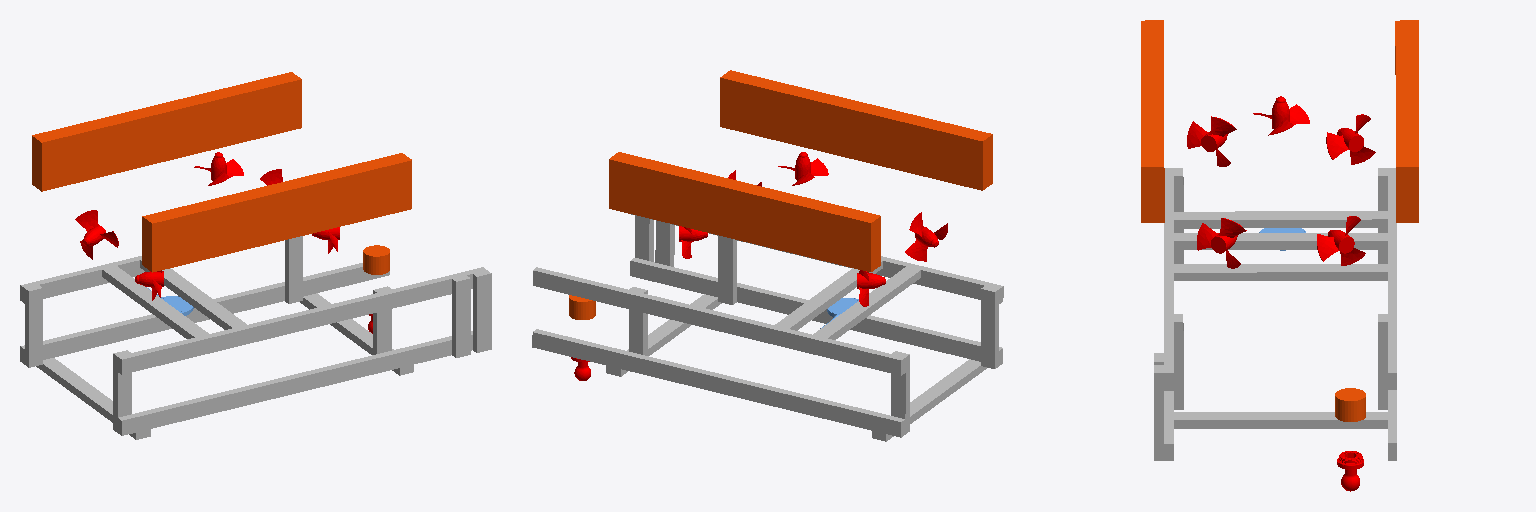
URDF robot description (falcon_bravo7):
<?xml version="1.0" encoding="utf-8"?>
<robot name="falcon_bravo7">

                                <material name="green2">
                                        <color rgba="0.235 0.702 0.443 1"/>
                                </material>

                                <material name="blue">
                                        <color rgba="0.263 0.733 0.984 1"/>
                                </material>

                                <material name="lavender">
                                        <color rgba="0.5 0.733 0.984 1"/>
                                </material>

                                <material name="red">
                                        <color rgba="1 0 0 1"/>
                                </material>

                                <material name="trans_black">
                                        <color rgba="0.8 0.8 0.8 1"/>
                                </material>

                                <material name="orange">
                                        <color rgba="1 0.369 0.047 1"/>
                                </material>

                                <material name="bravo_black">
                                        <color rgba="0.3 0.3 0.3 0.7"/>
                                </material>

                                <material name="bravo_jaws_black">
                                        <color rgba="0.3 0.3 0.3 1"/>
                                </material>   
            <!--ROV-->
<link name="world"/>     

            <link name="mobile_base">
                    <visual>
                            <geometry>
                                <mesh filename="package://uvm_description/meshes/falcon_frame.obj" scale="0.333 0.333 0.333"/>
                            </geometry>
                    </visual>
            </link>

            <link name="chassis">
                    <visual>
                            <geometry>
                                <mesh filename="package://uvm_description/meshes/chassis.STL" scale="0.001 0.001 0.001"/>
                            </geometry>
                            <material name="trans_black"/>
                    </visual>
            </link>
                    
                    <joint name="falcon2chassis" type="fixed">
                        <parent link="mobile_base"/>
                        <child link="chassis"/>
                        <origin rpy="-1.57 3.14  0" xyz="0.295 -0.73 -0.275"/>
                    </joint>
            
            <link name="floaterR">
                    <visual>
                            <geometry>
                                <mesh filename="package://uvm_description/meshes/floater.STL" scale="0.001 0.001 0.001"/>
                            </geometry>
                            <material name="orange"/>
                    </visual>
            </link>
                    <joint name="falcon2floaterR" type="fixed">
                        <parent link="mobile_base"/>
                        <child link="floaterR"/>
                        <origin rpy="-1.57 0 -1.57" xyz="0.29 0.45 0.45"/>
                    </joint>

            <link name="floaterL">
                    <visual>
                            <geometry>
                                <mesh filename="package://uvm_description/meshes/floater.STL" scale="0.001 0.001 0.001"/>
                            </geometry>
                            <material name="orange"/>
                    </visual>
            </link>
                    <joint name="falcon2floaterL" type="fixed">
                        <parent link="mobile_base"/>
                        <child link="floaterL"/>
                        <origin rpy="-1.57 0 -1.57" xyz="-0.365 0.45 0.45"/>
                    </joint>
            
            <link name="DVL">
                <visual>
                        <geometry>
                            <mesh filename="package://uvm_description/meshes/dvl_a125.stl" scale="0.001 0.001 0.001"/>
                        </geometry>
                        <material name="lavender"/>
                </visual>
            </link>
                    <joint name="falcon2dvl" type="fixed">
                        <parent link="mobile_base"/>
                        <child link="DVL"/>
                        <origin rpy="1.57 0 -1.570" xyz="0 0.17 -0.07"/>
                    </joint>
            
            <!--PROPELLERS-->
            <link name="Z_propeller">
                    <visual>
                            <geometry>
                                <mesh filename="package://uvm_description/meshes/propeller.stl" scale="0.85 0.85 0.85"/>
                            </geometry>
                            <material name="red"/>
                    </visual>
            </link>
            
            <link name="1_propeller">
                    <visual>
                            <geometry>
                                <mesh filename="package://uvm_description/meshes/propeller.stl" scale="0.85 0.85 0.85"/>
                            </geometry>
                            <material name="red"/>
                    </visual>
            </link>
            
            <link name="2_propeller">
                    <visual>
                            <geometry>
                                <mesh filename="package://uvm_description/meshes/propeller.stl" scale="0.85 0.85 0.85"/>
                            </geometry>
                            <material name="red"/>
                    </visual>
            </link>
            
            <link name="3_propeller">
                    <visual>
                            <geometry>
                                <mesh filename="package://uvm_description/meshes/propeller.stl" scale="0.85 0.85 0.85"/>
                            </geometry>
                            <material name="red"/>
                    </visual>
            </link>
            
            <link name="4_propeller">
                    <visual>
                            <geometry>
                                <mesh filename="package://uvm_description/meshes/propeller.stl" scale="0.85 0.85 0.85"/>
                            </geometry>
                            <material name="red"/>
                    </visual>
            </link>
                    
                    <joint name="z_propeller_joint" type="fixed">
                        <parent link="mobile_base"/>
                        <child link="Z_propeller"/>
                        <axis xyz="1 0 0"/>
                        <origin rpy="0.0 1.57 0" xyz="-0.005 0.015 0.35"/>
                    </joint>
                    
                    <joint name="4_propeller_joint" type="fixed">
                        <parent link="mobile_base"/>
                        <child link="4_propeller"/>
                        <axis xyz="1 0 0"/>
                        <origin rpy="0.0 0.0 -2.0944" xyz="-0.19 0.31 0.165"/>
                    </joint>
                    
                    <joint name="3_propeller_joint" type="fixed">
                        <parent link="mobile_base"/>
                        <child link="3_propeller"/>
                        <axis xyz="1 0 0"/>
                        <origin rpy="0.0 0.0 -1.0472" xyz="0.19 0.31 0.165"/>
                    </joint>
                    
                    <joint name="2_propeller_joint" type="fixed">
                        <parent link="mobile_base"/>
                        <child link="2_propeller"/>
                        <axis xyz="1 0 0"/>
                        <origin rpy="0.0 0.0 -1.0472" xyz="0.165 -0.307 0.165"/>
                    </joint>
                                        
                    <joint name="1_propeller_joint" type="fixed">
                        <parent link="mobile_base"/>
                        <child link="1_propeller"/>
                        <axis xyz="1 0 0"/>
                        <origin rpy="0.0 0.0 -2.094395327" xyz="-0.165 -0.307 0.165"/>
                    </joint>


            <link name="x_link"/>
            <link name="y_link"/>
            <link name="z_link"/>

                    <joint name="X" type="prismatic">
                        <parent link="world"/>
                        <child link="x_link"/>
                        <limit effort="1000.0" lower="-40.0" upper="40.0" velocity="10"/>
                        <origin rpy="0 0 0" xyz="0 0 0"/>
                        <axis xyz="1 0 0"/>
                    </joint>

                    <joint name="Y" type="prismatic">
                        <parent link="x_link"/>
                        <child link="y_link"/>
                        <limit effort="1000.0" lower="-40.0" upper="40.0" velocity="10"/>
                        <origin rpy="0 0 0" xyz="0 0 0"/>
                        <axis xyz="0 1 0"/>
                    </joint>

                    <joint name="Z" type="prismatic">
                        <parent link="y_link"/>
                        <child link="z_link"/>
                        <limit effort="1000.0" lower="-40.0" upper="40.0" velocity="10"/>
                        <origin rpy="0 0 0" xyz="0 0 0"/>
                        <axis xyz="0 0 1"/>
                    </joint>
                    
                    <joint name="Yaw" type="revolute">
                        <parent link="z_link"/>
                        <child link="mobile_base"/>
                        <origin rpy="0 0.0 1.570796326" xyz="0 0 0"/>
                        <axis xyz="0 0 1"/>
                        <limit effort="10.0" lower="-8.0" upper="8.0" velocity="5"/>
                    </joint>

            <!--BRAVO ARM-->                    

            <link name="link1">
                <visual>
                    <geometry>
                        <mesh filename="package://uvm_description/meshes/RS2-266.stl"/>
                    </geometry>
                    <material name="blue"/>
                </visual>
            </link>

                    <joint name="base_fixed" type="fixed">
                        <parent link="mobile_base"/>
                        <child link="link1"/>
                        <origin rpy="0 0 4.712" xyz="0.175 -0.655 -0.035"/>
                    </joint>

            <link name="link2">
                <visual>
                    <geometry>
                        <mesh filename="package://uvm_description/meshes/RS2-217.stl"/>
                    </geometry>
                    <material name="green2"/>
                    </visual>
            </link>

                    <joint name="joint1" type="revolute">
                        <parent link="link1"/>
                        <child link="link2"/>
                        <origin rpy="0 0 0" xyz="0.0665 0 0.078"/>
                        <axis xyz="0 0 -1"/>
                        <limit effort="9.0" lower="0.0" upper="6.3" velocity="0.5"/>
                    </joint>

            <link name="link3">
                <visual>
                    <geometry>
                        <mesh filename="package://uvm_description/meshes/RS2-250-212-214.stl"/>
                    </geometry>
                    <material name="blue"/>
                </visual>
            </link>

                    <joint name="joint2" type="revolute">
                        <parent link="link2"/>
                        <child link="link3"/>
                        <origin rpy="0 0 0" xyz="-0.046 0 0.0674"/>
                        <axis xyz="0 1 0"/>
                        <limit effort="9.0" lower="0.0" upper="3.5" velocity="0.5"/>
                    </joint>

            <link name="link4">
                <visual>
                    <geometry>
                        <mesh filename="package://uvm_description/meshes/RS2-268.stl"/>
                    </geometry>
                    <material name="green2"/>
                </visual>
            </link>

                    <joint name="joint3" type="revolute">
                        <parent link="link3"/>
                        <child link="link4"/>
                        <origin rpy="0 0 0" xyz="-0.0052 0 -0.29055"/>
                        <axis xyz="0 1 0"/>
                        <limit effort="9.0" lower="0.0" upper="3.5" velocity="0.5"/>
                    </joint>

            <link name="link5">
                <visual>
                    <geometry>
                        <mesh filename="package://uvm_description/meshes/RS2-214.stl"/>
                    </geometry>
                    <material name="blue"/>
                </visual>
            </link>

                    <joint name="joint4" type="revolute">
                        <parent link="link4"/>
                        <child link="link5"/>
                        <origin rpy="0 0 0" xyz="0.0408 0 0.09695"/>
                        <axis xyz="0 0 -1"/>
                        <limit effort="9.0" lower="0.0" upper="6.3" velocity="0.5"/>
                    </joint>

            <link name="link6">
                <visual>
                    <geometry>
                        <mesh filename="package://uvm_description/meshes/RS2-161.stl"/>
                    </geometry>
                    <material name="green2"/>
                </visual>
            </link>

                    <joint name="joint5" type="revolute">
                        <parent link="link5"/>
                        <child link="link6"/>
                        <origin rpy="0 0 0" xyz="-0.0408 0 0.063"/>
                        <axis xyz="0 1 0"/>
                        <limit effort="9.0" lower="0.0" upper="3.5" velocity="0.5"/>
                    </joint>

            <link name="link7">
                <visual>
                    <geometry>
                        <mesh filename="package://uvm_description/meshes/RS2-180.stl"/>
                    </geometry>
                    <material name="blue"/>
                </visual>
            </link>

            <link name="force_torque_sensor">
                <visual>
                    <geometry>
                        <cylinder length="0.06" radius="0.04"/>
                    </geometry>
                    <material name="orange"/>
                </visual>
            </link>

            <link name="end_effector_ball">
                <visual>
                    <geometry>
                        <mesh filename="package://uvm_description/meshes/EndEffector_85mm.STL" scale="0.001 0.001 0.001"/>
                    </geometry>
                    <material name="red"/>
                </visual>
            </link>
                    <joint name="FT_fixed_1" type="fixed">
                        <origin rpy="0 0 1.57" xyz=" 0 0 -0.03"/>
                        <parent link="link7"/>
                        <child link="force_torque_sensor"/>
                    </joint>

                    <joint name="joint6" type="revolute">
                        <parent link="link6"/>
                        <child link="link7"/>
                        <origin rpy="0 3.14159 0" xyz="-0.0408 0 -0.14863"/>
                        <axis xyz="0 0 -1"/>
                        <limit effort="9.0" lower="0.0" upper="6.3" velocity="0.5"/>
                    </joint>

                    <joint name="bravo_EE_joint" type="fixed">
                        <origin rpy="0 -1.57 0" xyz=" 0.045 -0.035 0.113"/>
                        <parent link="link7"/>
                        <child link="end_effector_ball"/>
                    </joint>     

                    <joint name="contact_point_joint" type="fixed">
                        <origin rpy="0 0 0" xyz="0 0 0.24"/>
                        <parent link="force_torque_sensor"/>
                        <child link="contact_point"/>
                    </joint>

            <!-- contact_point -->
            <link name="contact_point"/>

</robot>

--- What the picture shows (computed from the rendered views, not written in the file) ---
Views: 3 orthographic renders of the robot side by side, from view 1: azimuth 30°, elevation 25°; view 2: azimuth 150°, elevation 25°; view 3: azimuth 270°, elevation 25°.
Robot: falcon_bravo7 — 24 links, 23 joints (7 revolute, 3 prismatic, 13 fixed); root link world; default pose: every joint at zero.
Links seen in each view (by area): view 1: chassis, floaterR, floaterL, 3_propeller, force_torque_sensor, Z_propeller; view 2: chassis, floaterL, floaterR, 4_propeller, Z_propeller, 3_propeller, force_torque_sensor; view 3: chassis, floaterL, floaterR, 3_propeller, 2_propeller, 1_propeller, 4_propeller, force_torque_sensor, Z_propeller, end_effector_ball.
Boxes of the visible links, <box> form: chassis: <box>20,236,491,439</box>; floaterR: <box>32,72,301,191</box>; floaterL: <box>142,153,411,272</box>; 3_propeller: <box>75,210,118,259</box>; force_torque_sensor: <box>363,245,389,274</box>; Z_propeller: <box>194,152,243,185</box>; chassis: <box>532,214,1003,441</box>; floaterL: <box>720,70,992,190</box>; floaterR: <box>609,152,880,271</box>; 4_propeller: <box>905,212,947,261</box>; Z_propeller: <box>778,152,828,185</box>; 3_propeller: <box>857,270,885,306</box>; force_torque_sensor: <box>569,295,595,319</box>; chassis: <box>1154,168,1396,460</box>; floaterL: <box>1141,20,1164,222</box>; floaterR: <box>1395,20,1418,222</box>; 3_propeller: <box>1326,114,1375,164</box>; 2_propeller: <box>1317,216,1365,265</box>; 1_propeller: <box>1197,218,1246,268</box>; 4_propeller: <box>1187,116,1236,166</box>; force_torque_sensor: <box>1335,388,1365,421</box>; Z_propeller: <box>1253,96,1309,135</box>; end_effector_ball: <box>1337,451,1363,491</box>.
Size in the robot's own frame: 1.25 by 0.7158 by 0.8321 metres.
10 mesh visuals loaded from 13 distinct referenced files (5 binary STL); not drawn: 8 (reference not matched to a file when rendering).
